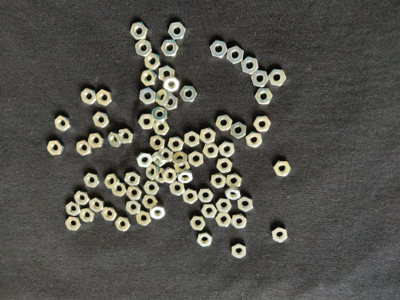nut: (209, 39, 228, 59), (129, 21, 148, 40), (167, 22, 187, 40), (161, 39, 180, 57), (226, 45, 244, 64), (92, 111, 111, 129), (80, 87, 98, 106), (180, 85, 198, 103), (158, 65, 176, 83), (139, 87, 157, 105), (96, 88, 114, 106), (242, 56, 259, 75), (251, 70, 270, 87), (255, 88, 274, 105), (162, 76, 181, 93), (135, 39, 152, 57), (269, 69, 287, 86), (141, 69, 158, 87), (162, 93, 179, 111), (75, 140, 93, 157), (54, 116, 73, 132), (218, 141, 235, 158), (138, 113, 155, 130), (237, 196, 254, 213), (215, 197, 232, 214), (271, 226, 288, 243), (182, 188, 199, 205), (254, 116, 272, 132), (273, 161, 291, 177), (47, 140, 65, 156), (144, 53, 161, 69), (216, 115, 233, 131), (200, 127, 216, 144), (184, 130, 200, 147), (152, 106, 168, 123), (153, 120, 170, 136), (210, 173, 227, 189), (226, 173, 243, 189), (136, 151, 152, 168), (172, 151, 189, 167), (162, 167, 178, 184), (143, 180, 160, 196), (88, 133, 105, 149), (108, 131, 124, 148), (118, 129, 135, 145), (124, 171, 141, 187), (73, 190, 90, 206), (125, 186, 143, 201), (246, 132, 262, 148), (231, 122, 247, 138), (217, 158, 233, 174), (216, 212, 232, 228), (190, 215, 206, 231), (197, 232, 213, 248), (150, 204, 166, 220), (115, 216, 131, 232), (89, 197, 105, 213), (155, 89, 170, 106), (203, 143, 220, 158), (189, 150, 204, 167), (231, 214, 248, 229), (151, 151, 166, 168), (174, 159, 191, 174), (177, 169, 194, 184), (169, 181, 186, 196), (155, 167, 170, 184), (84, 173, 101, 188), (135, 211, 152, 226), (101, 207, 118, 222), (65, 201, 82, 216), (65, 217, 82, 232), (150, 135, 166, 150), (168, 137, 184, 152), (198, 188, 214, 203), (232, 243, 247, 259), (159, 147, 174, 163), (104, 174, 120, 189), (142, 195, 158, 210), (126, 200, 142, 215), (80, 208, 96, 223), (225, 187, 242, 201), (201, 204, 218, 218), (146, 164, 160, 181), (111, 183, 128, 197)
